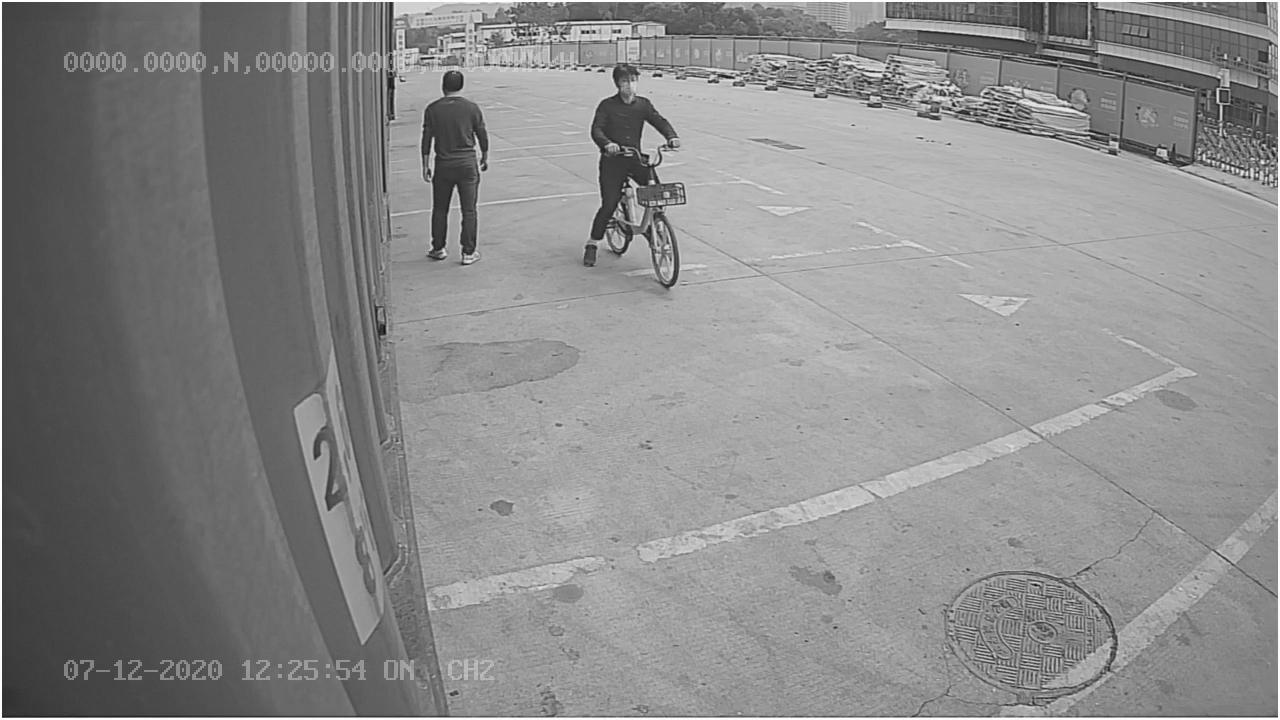person: (416, 65, 494, 267)
